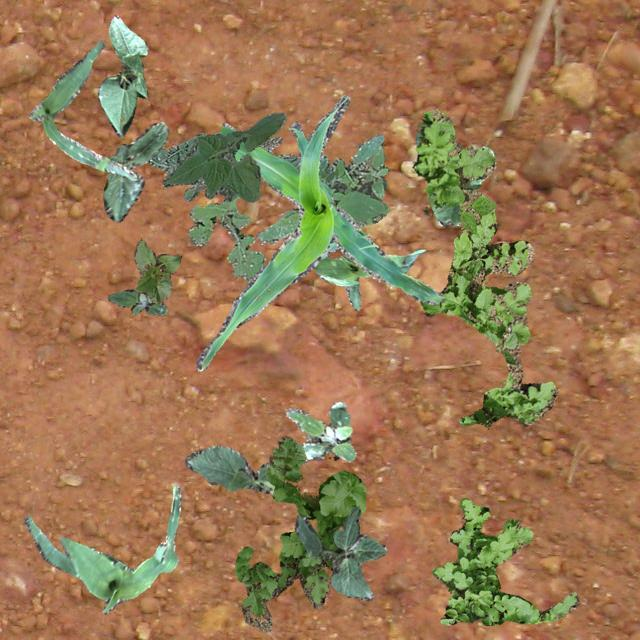crop: (195, 94, 442, 370), (22, 482, 180, 612), (28, 39, 136, 180), (162, 111, 286, 200), (294, 506, 386, 600), (314, 238, 424, 310), (414, 130, 488, 226), (102, 121, 166, 222), (96, 15, 148, 136), (184, 444, 274, 492), (134, 236, 180, 304)
weed: (412, 107, 558, 426), (234, 436, 366, 630), (430, 498, 578, 624), (255, 134, 388, 244), (146, 132, 300, 200), (187, 190, 264, 280), (286, 401, 354, 462), (108, 288, 166, 314)
